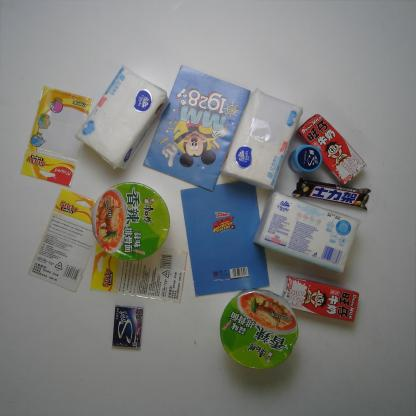Chocolate: (294, 176, 370, 211)
Gum: (110, 304, 143, 349), (288, 145, 322, 175)
Instant Noodles: (218, 288, 300, 372), (92, 181, 171, 262)
Milk: (296, 113, 367, 185), (282, 276, 360, 324)
Stationery: (140, 66, 251, 192), (181, 176, 271, 296), (28, 187, 106, 293), (20, 87, 93, 187), (89, 238, 188, 303)
Tissue: (74, 65, 170, 172), (253, 190, 361, 273), (221, 88, 303, 188)
